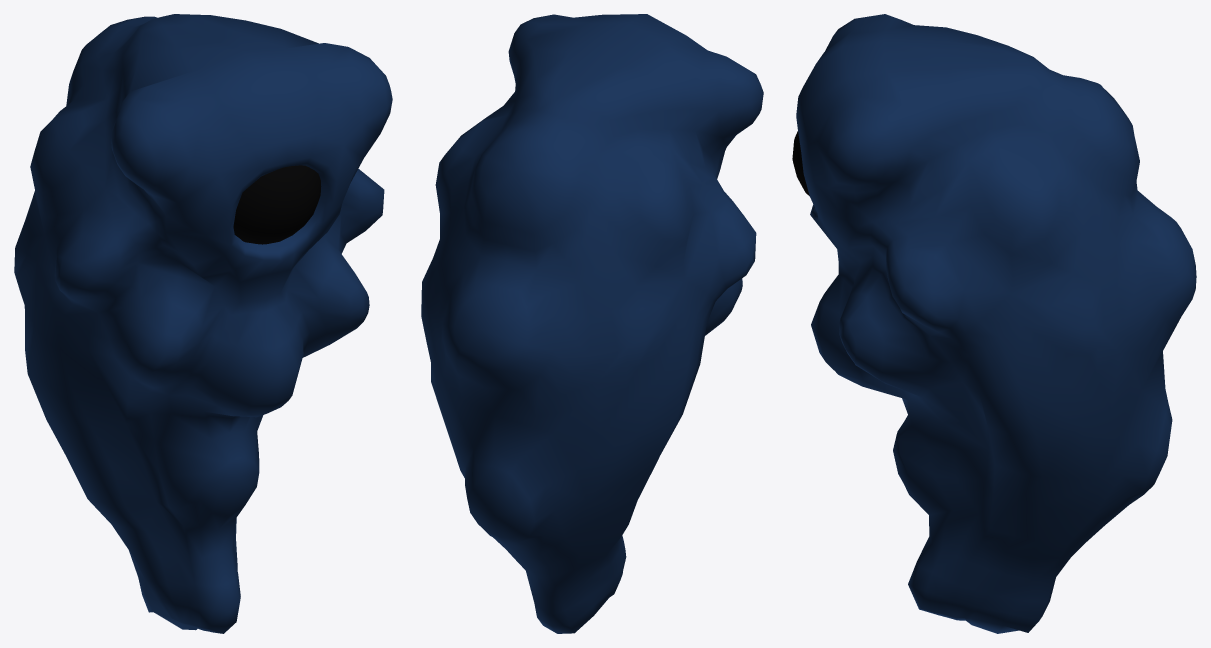
The model's file is Alien_Cyclop.obj.
3 renders of one model, left to right at view 1: azimuth 30°, elevation 25°; view 2: azimuth 150°, elevation 25°; view 3: azimuth 270°, elevation 25°, orthographic. The views are drawn at different scales.
Visible parts, largest first — view 1: Alien_Cyclops; view 2: Alien_Cyclops; view 3: Alien_Cyclops.
Part boxes in pixels (x1=…): Alien_Cyclops: x1=14, y1=14, x2=392, y2=633; Alien_Cyclops: x1=421, y1=14, x2=763, y2=633; Alien_Cyclops: x1=792, y1=14, x2=1196, y2=633.
Bounding box in the file's own units: 1.07 × 1.98 × 1.23.
